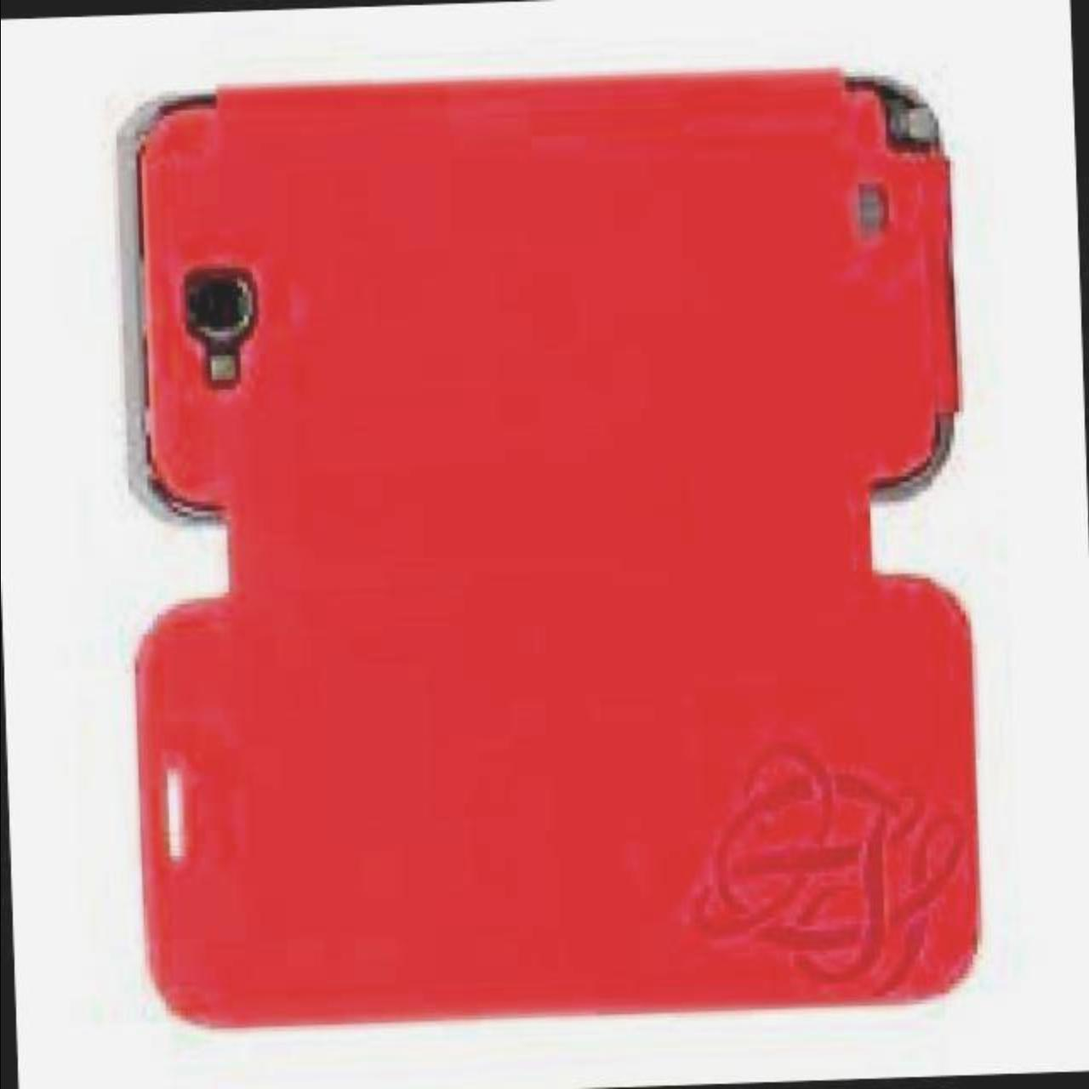phone: (118, 68, 966, 529)
